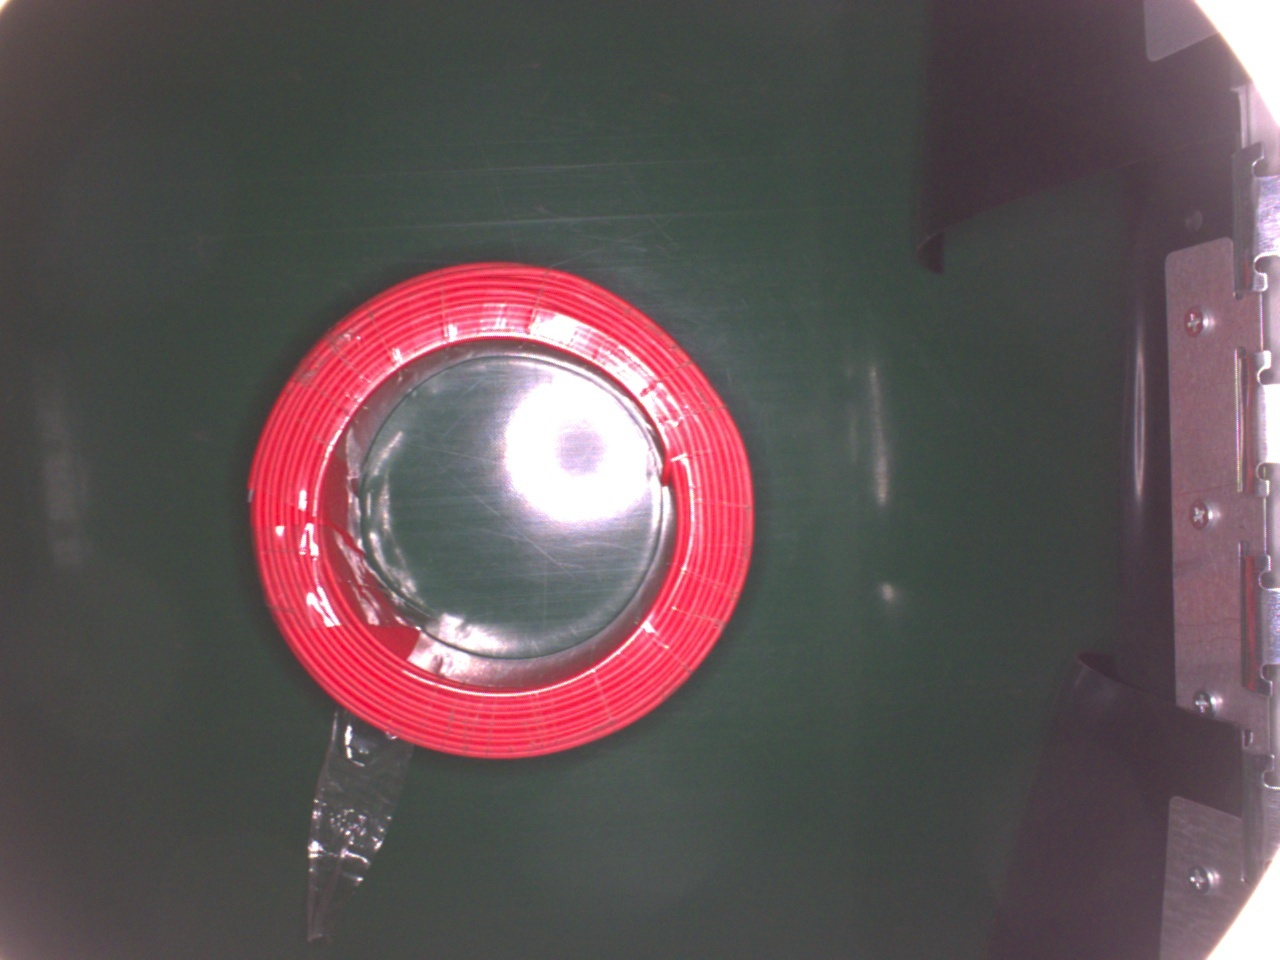red: (247, 259, 759, 759)
